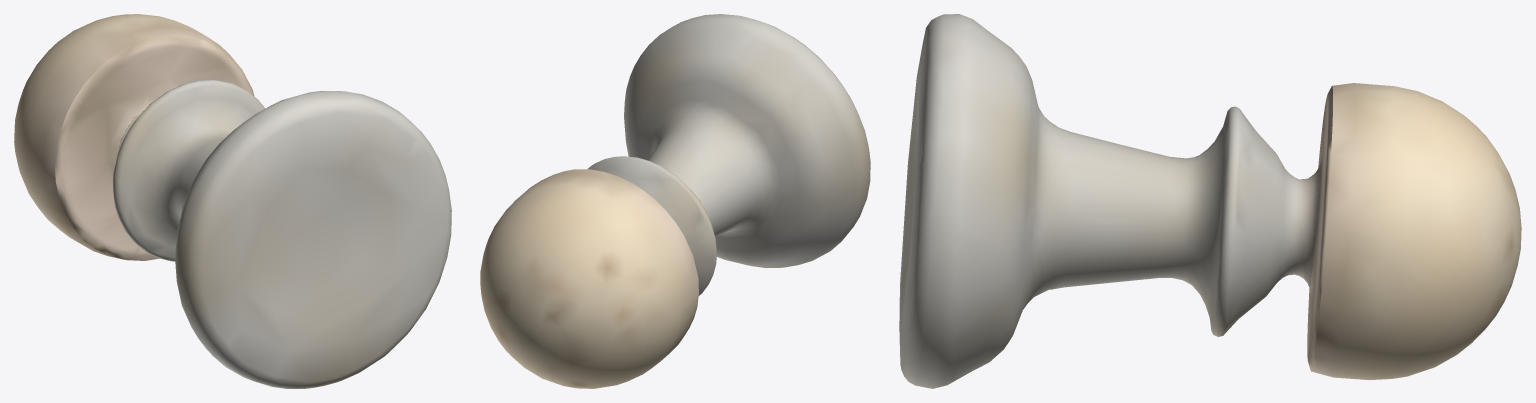
Rendered from pawn-light-fallen.glb.
3 views of the same model, side by side, from view 1: azimuth 30°, elevation 25°; view 2: azimuth 150°, elevation 25°; view 3: azimuth 270°, elevation 25° (orthographic). The views are drawn at different scales.
Visible parts, largest first — view 1: body; view 2: body; view 3: body.
Boxes of the visible parts, <box> form: body: <box>14,14,451,388</box>; body: <box>480,14,870,388</box>; body: <box>899,14,1521,388</box>.
Size of the model in its own units: 1.73 by 1.72 by 2.87.
